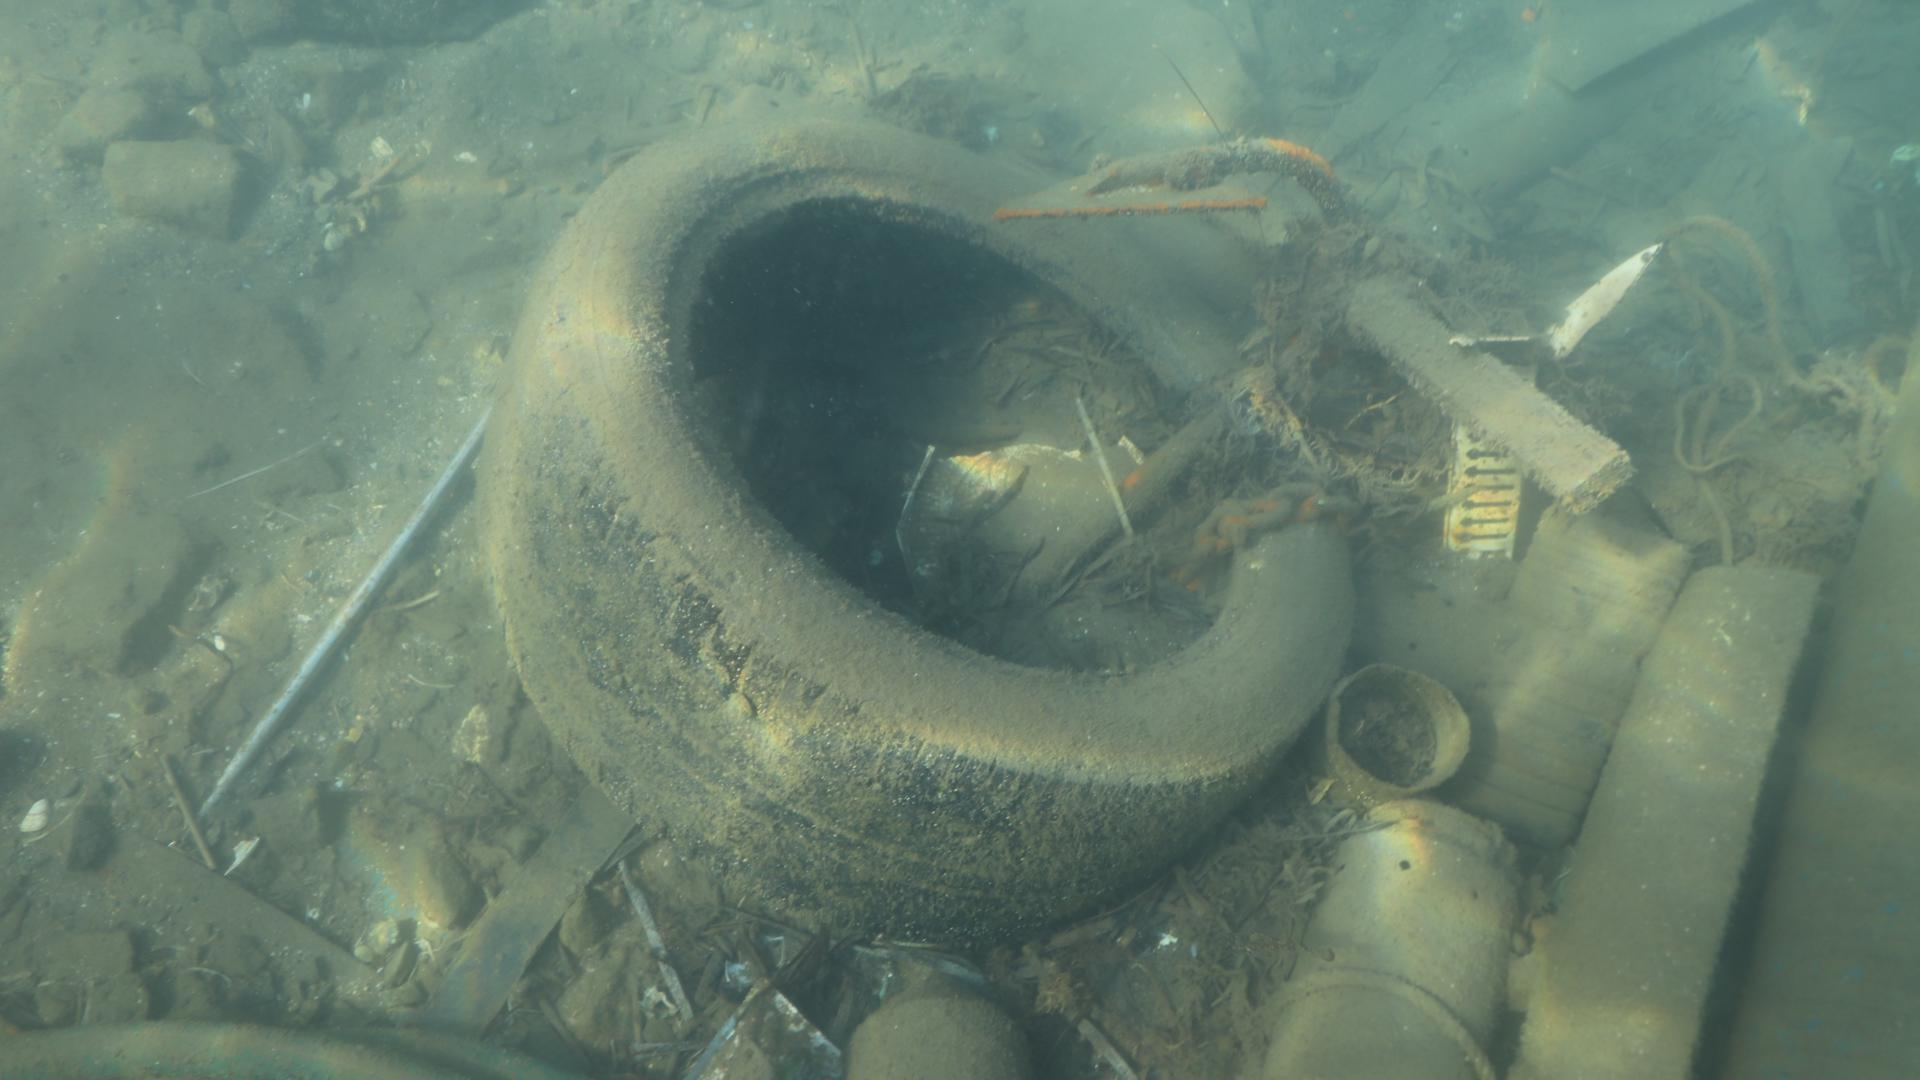tire: (473, 113, 1358, 953)
wood: (1360, 274, 1635, 518)
